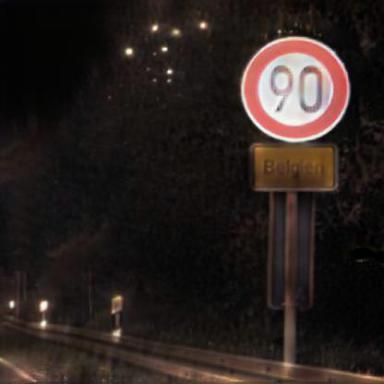Speed_limit_90: (244, 38, 351, 139)
